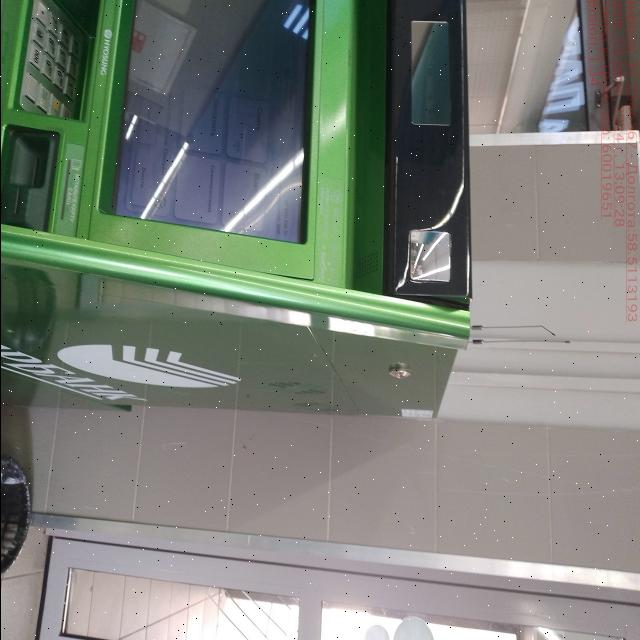bank: (0, 0, 478, 419)
